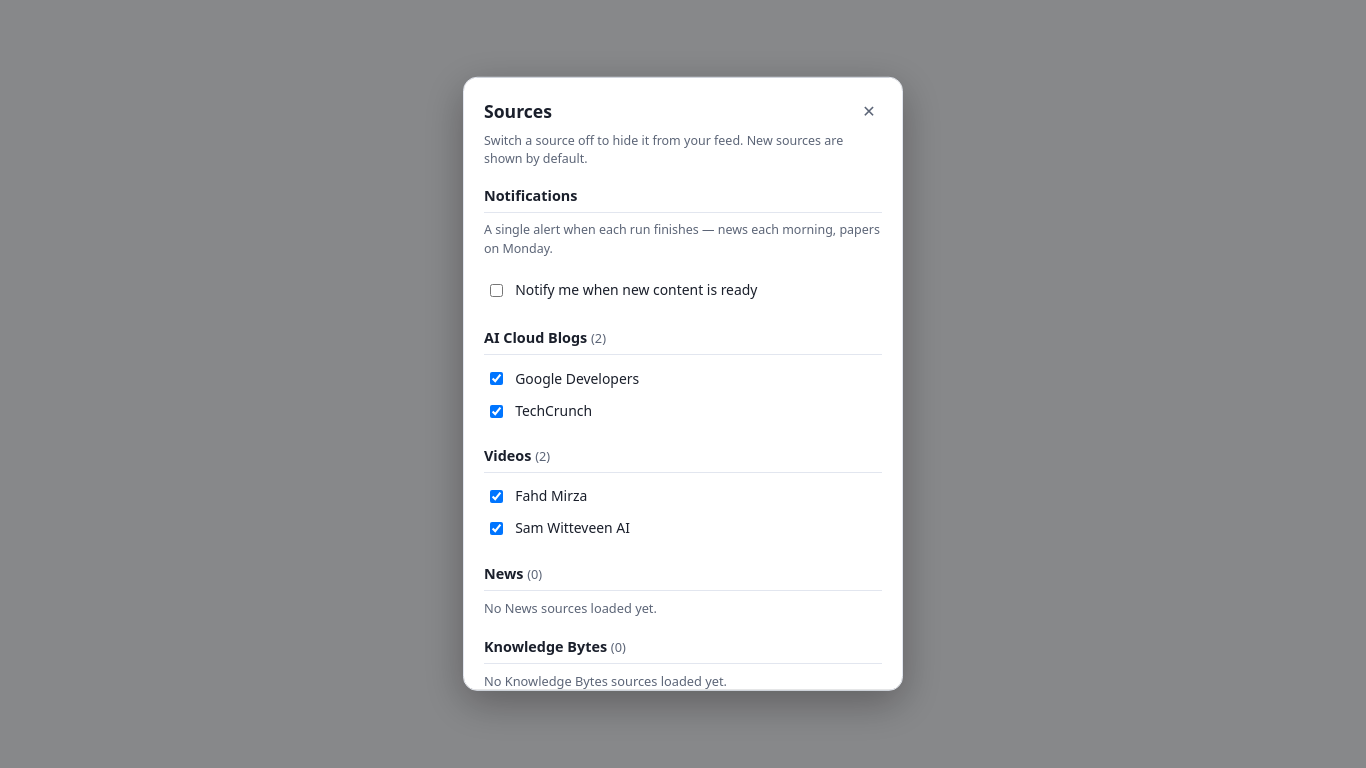
Test: SettingsSheet › offers 'Show all' only once something is hidden
Expected: the button "Show all" is not shown
Click the checkbox labelled "TechCrunch".
click(496, 411)  # box x1=490 y1=404 x2=503 y2=417
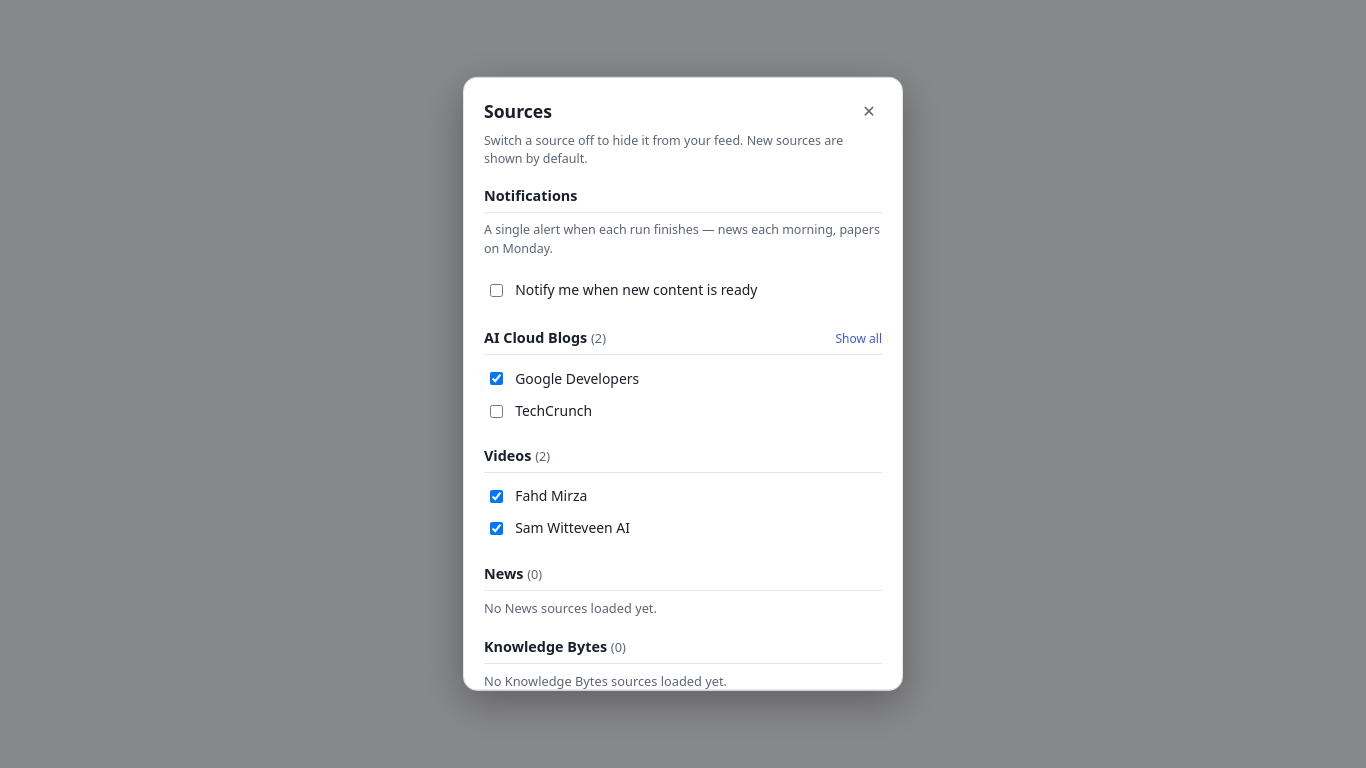
Result: the number of buttons "Show all" is 1 at x1=836 y1=330 x2=882 y2=348
